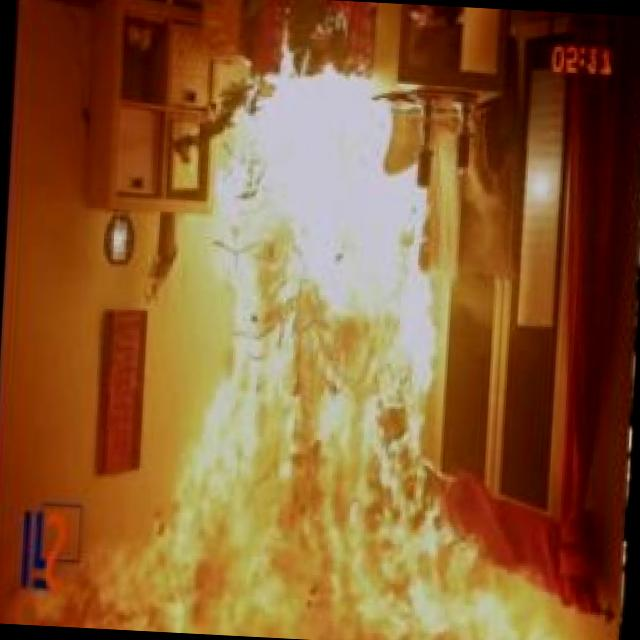fire: (86, 61, 545, 640)
